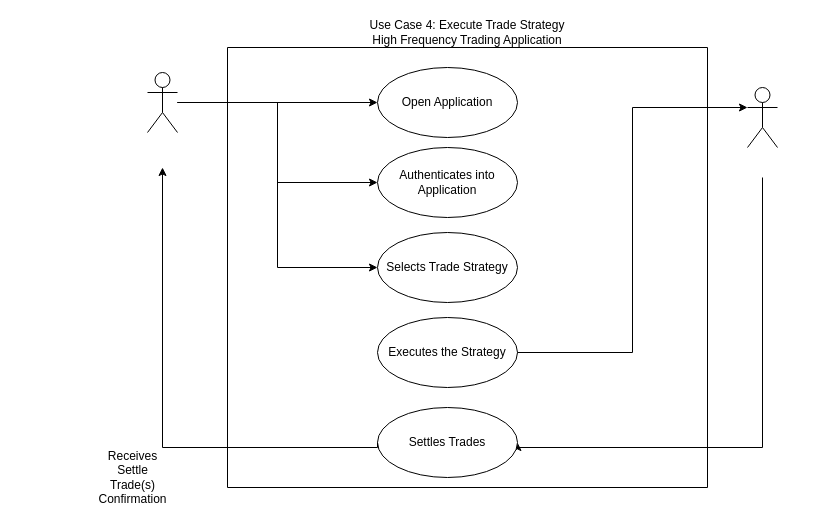
The diagram is 818 pixels wide and 523 high, and some of its shapes have lost their labels. The shapes that lost their labels are listed below. From the top down, each one's box as (x1, y1, x2, y2) in pixels, then its label:
(146, 72, 178, 132): Trader
(746, 86, 778, 148): Clearinghouse
